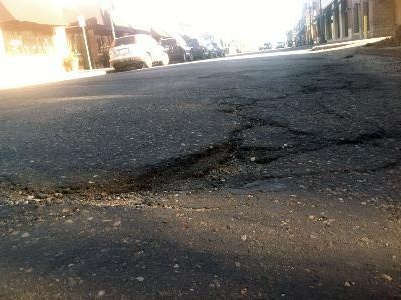pothole: (77, 135, 273, 208), (0, 182, 62, 208)
